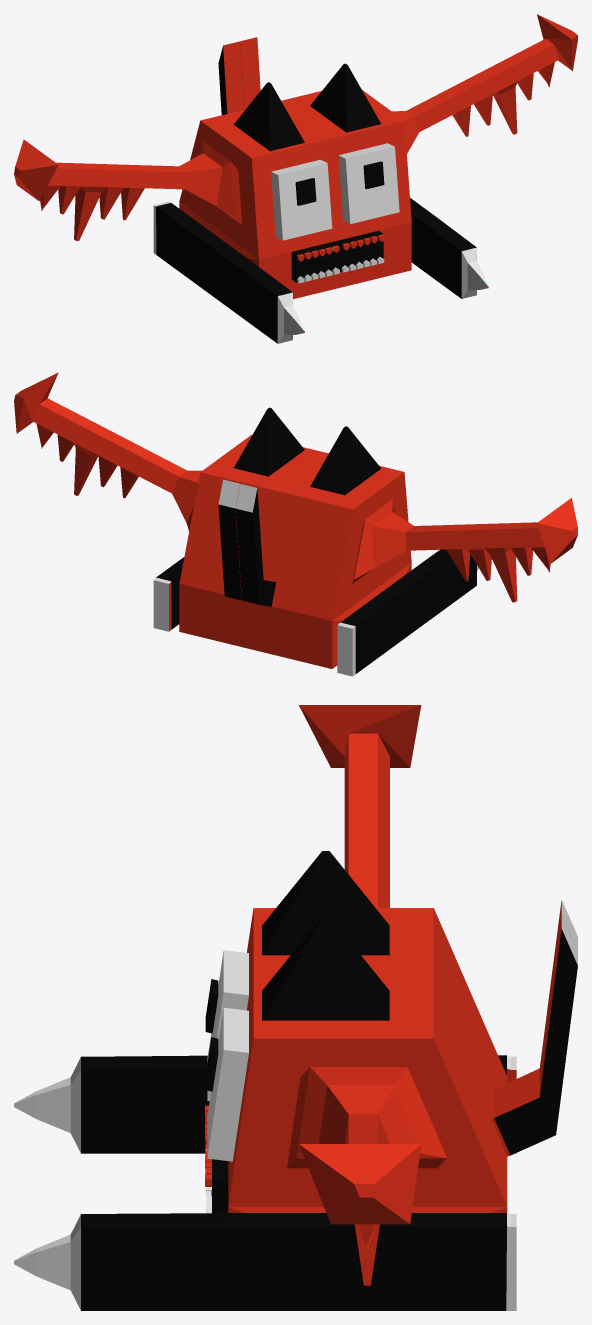
The model's file is flyingTej.fbx.
The picture shows the model from 3 angles, top to bottom: view 1: azimuth 30°, elevation 25°; view 2: azimuth 150°, elevation 25°; view 3: azimuth 270°, elevation 25°; orthographic projection. The views are drawn at different scales.
Parts seen in each view (by area): view 1: Cube; view 2: Cube; view 3: Cube.
Boxes of the visible parts, left/top/right/bottom form: Cube: left=14, top=14, right=577, bottom=343; Cube: left=14, top=372, right=577, bottom=676; Cube: left=14, top=705, right=577, bottom=1310.
Size of the model in its own units: 668 by 222 by 332.
